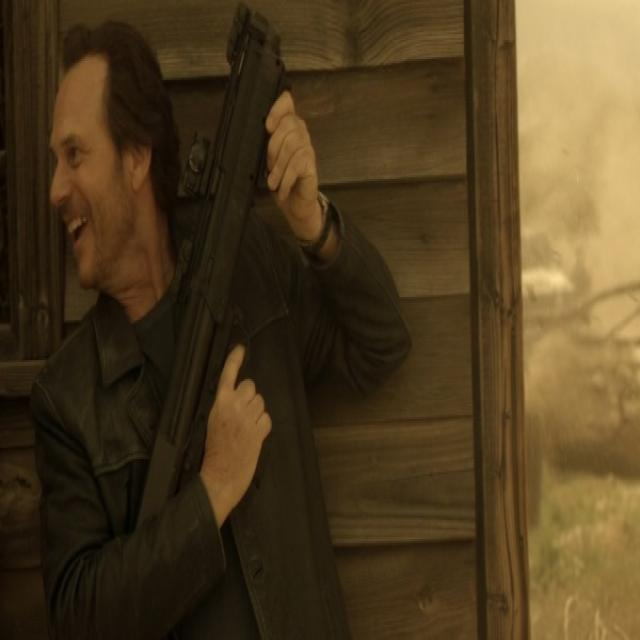rifle: (130, 1, 293, 541)
